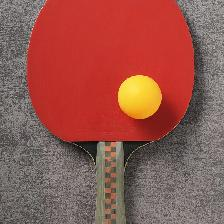YellowBall: (116, 74, 162, 120)
